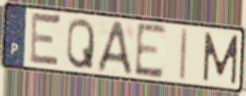A: (95, 20, 134, 76)
E: (28, 9, 63, 71), (133, 21, 168, 81)
I: (178, 27, 189, 83)
M: (202, 31, 240, 87)
Q: (65, 16, 96, 71)
